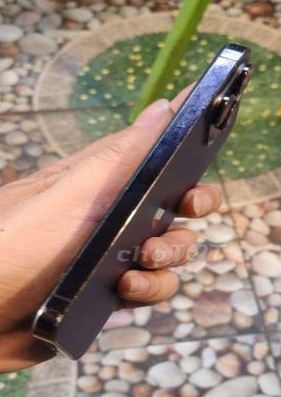scratch: (164, 61, 233, 140), (41, 267, 88, 323)
